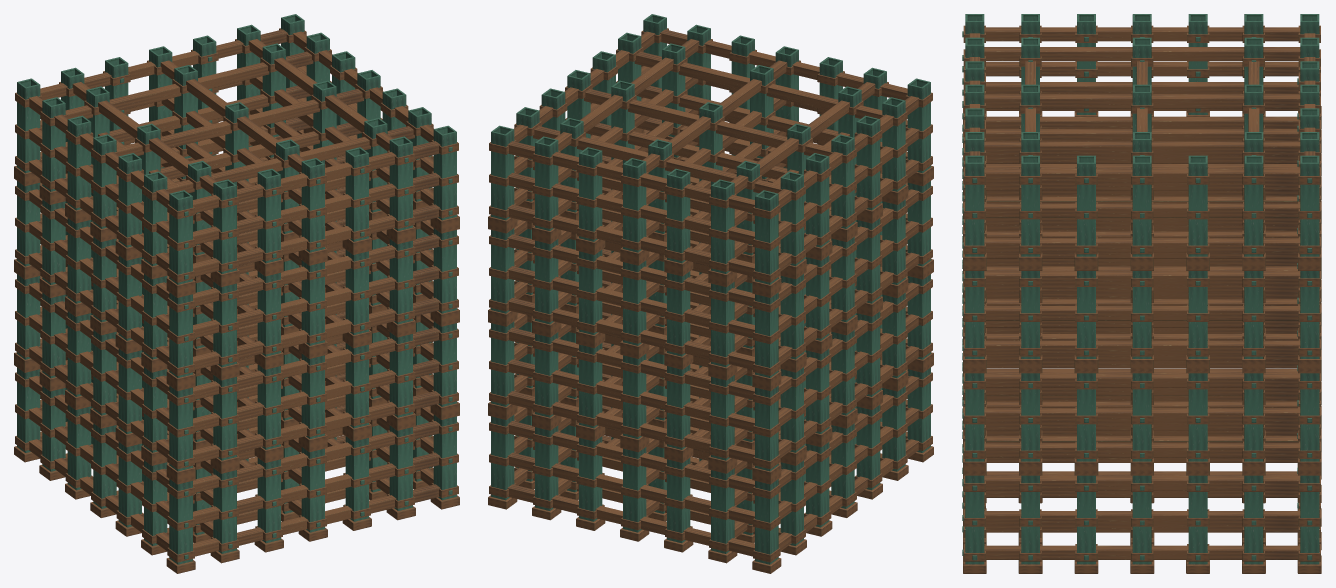
The picture shows the model from 3 angles, left to right: view 1: azimuth 30°, elevation 25°; view 2: azimuth 150°, elevation 25°; view 3: azimuth 270°, elevation 25°; orthographic projection. The views are drawn at different scales.
Visible parts, largest first — view 1: Tier 3 internal tie 0-0-0-0.84, Tier 3 internal tie 0-0.56-0-0.84, Tier 3 internal tie 0--0.56-0-0.84, Tier 3 tie 0-0-0.16, Tier 0 tie 0-0-0.5, Tier 0 tie 0-0-0.84, Tier 1 tie 0-0-0.5, Tier 2 tie 0-0-0.16, Tier 0 tie 0-0-0.16, Tier 3 tie 0-0-0.5, Tier 1 tie 0-0-0.16, Tier 3 tie 0-0-0.84 (+99 smaller); view 2: Tier 3 internal tie 0-0-0-0.84, Tier 3 internal tie 0--0.56-0-0.84, Tier 3 internal tie 0-0.56-0-0.84, Tier 3 tie 2-0-0.16, Tier 0 tie 2-0-0.5, Tier 0 tie 2-0-0.84, Tier 1 tie 2-0-0.5, Tier 2 tie 2-0-0.16, Tier 0 tie 2-0-0.16, Tier 3 tie 2-0-0.5, Tier 1 tie 2-0-0.16, Tier 3 tie 2-0-0.84 (+99 smaller); view 3: Tier 3 internal tie 1-0-0-0.84, Tier 3 internal tie 1--0.56-0-0.84, Tier 3 internal tie 1-0.56-0-0.84, Tier 3 internal tie 1-0-0-0.5, Tier 3 internal tie 1--0.56-0-0.5, Tier 3 internal tie 1--0.56-0-0.16, Tier 2 tie 1-0-0.16, Tier 1 tie 1-0-0.16, Tier 1 tie 1-0-0.5, Tier 3 tie 1-0-0.16, Tier 0 tie 1-0-0.16, Tier 1 tie 1-0-0.84 (+78 smaller).
Part boxes in pixels (box(x1,y1,x2,y2)): Tier 3 internal tie 0-0-0-0.84: box(116, 89, 363, 156); Tier 3 internal tie 0-0.56-0-0.84: box(65, 51, 313, 118); Tier 3 internal tie 0--0.56-0-0.84: box(167, 126, 414, 193); Tier 3 tie 0-0-0.16: box(193, 204, 440, 276); Tier 0 tie 0-0-0.5: box(193, 452, 440, 524); Tier 0 tie 0-0-0.84: box(193, 421, 440, 492); Tier 1 tie 0-0-0.5: box(193, 359, 440, 431); Tier 2 tie 0-0-0.16: box(193, 297, 440, 369); Tier 0 tie 0-0-0.16: box(193, 484, 440, 556); Tier 3 tie 0-0-0.5: box(193, 172, 440, 244); Tier 1 tie 0-0-0.16: box(193, 391, 440, 463); Tier 3 tie 0-0-0.84: box(193, 141, 440, 213); Tier 3 internal tie 0-0-0-0.84: box(584, 89, 831, 156); Tier 3 internal tie 0--0.56-0-0.84: box(634, 51, 882, 118); Tier 3 internal tie 0-0.56-0-0.84: box(533, 126, 780, 193); Tier 3 tie 2-0-0.16: box(507, 204, 754, 276); Tier 0 tie 2-0-0.5: box(507, 452, 754, 524); Tier 0 tie 2-0-0.84: box(507, 421, 754, 492); Tier 1 tie 2-0-0.5: box(507, 359, 754, 431); Tier 2 tie 2-0-0.16: box(507, 297, 754, 369); Tier 0 tie 2-0-0.16: box(507, 484, 754, 556); Tier 3 tie 2-0-0.5: box(507, 172, 754, 244); Tier 1 tie 2-0-0.16: box(507, 391, 754, 463); Tier 3 tie 2-0-0.84: box(507, 141, 754, 213); Tier 3 internal tie 1-0-0-0.84: box(984, 94, 1300, 108); Tier 3 internal tie 1--0.56-0-0.84: box(984, 47, 1300, 61); Tier 3 internal tie 1-0.56-0-0.84: box(984, 141, 1300, 155); Tier 3 internal tie 1-0-0-0.5: box(984, 129, 1300, 141); Tier 3 internal tie 1--0.56-0-0.5: box(984, 82, 1300, 94); Tier 3 internal tie 1--0.56-0-0.16: box(986, 116, 1298, 128); Tier 2 tie 1-0-0.16: box(984, 340, 1300, 354); Tier 1 tie 1-0-0.16: box(984, 443, 1300, 457); Tier 1 tie 1-0-0.5: box(984, 408, 1300, 422); Tier 3 tie 1-0-0.16: box(984, 238, 1300, 252); Tier 0 tie 1-0-0.16: box(984, 545, 1300, 559); Tier 1 tie 1-0-0.84: box(984, 373, 1300, 387).
Size of the model in its own units: 1.8 by 2.27 by 1.8.
Materials: 2 (2 with a texture image).
